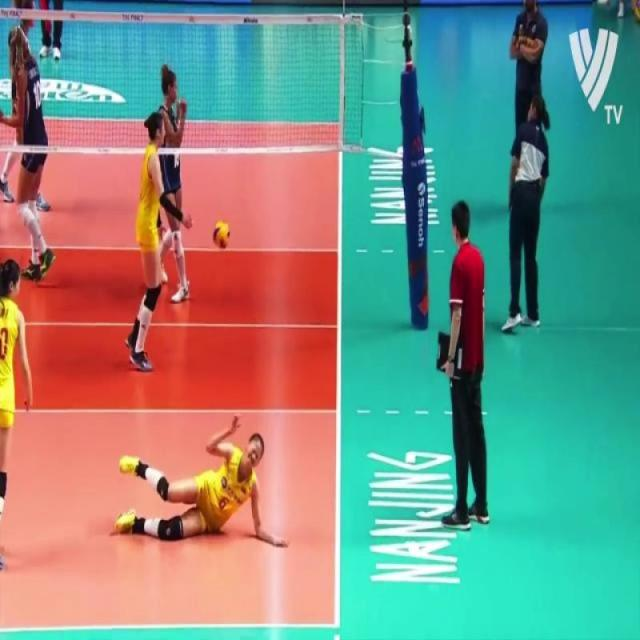volleyball: (212, 218, 232, 251)
